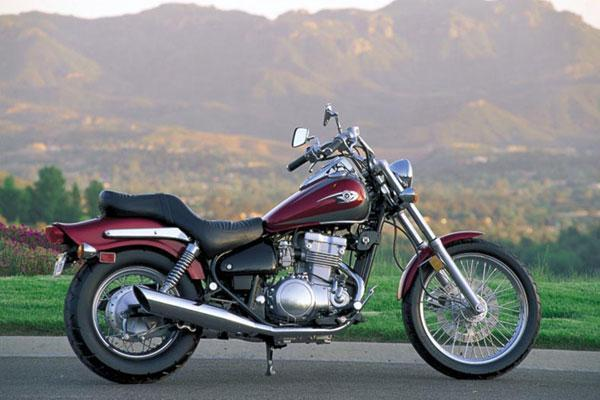motorcycle: (35, 100, 556, 392)
